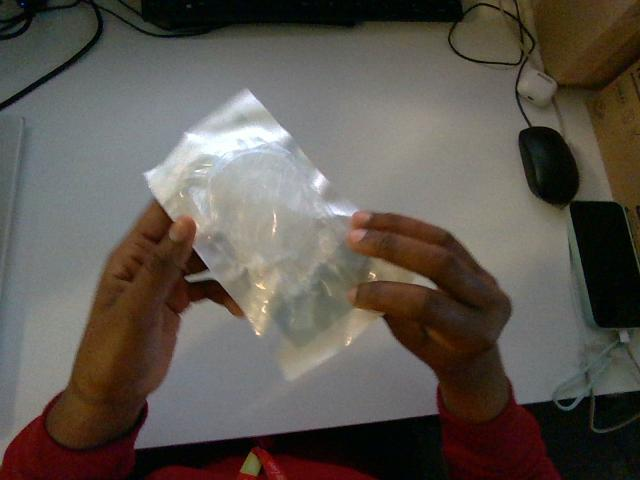gallipot: (145, 90, 411, 378)
